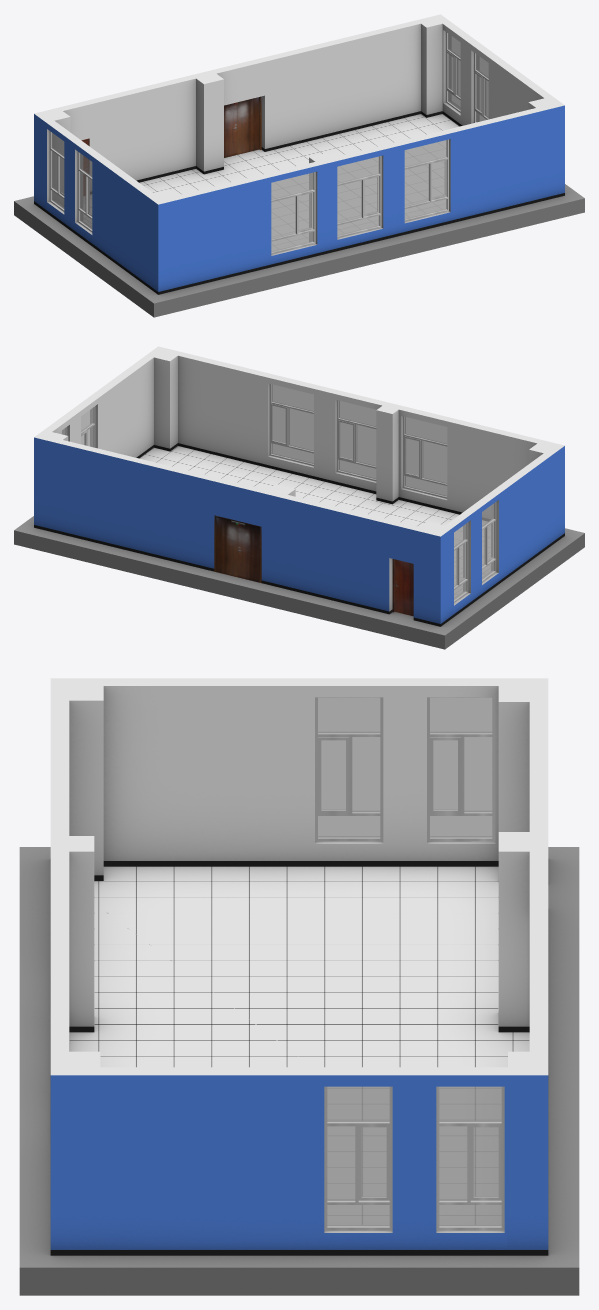
File: room_jf_xl_bazx_2f.glb
The picture shows the model from 3 angles, top to bottom: view 1: azimuth 30°, elevation 25°; view 2: azimuth 150°, elevation 25°; view 3: azimuth 270°, elevation 25°; orthographic projection. The views are drawn at different scales.
Parts seen in each view (by area): view 1: qiang, di, boli, ding, chuang1703, men175; view 2: qiang, di, boli, ding, chuang1703, men175, men90; view 3: di, qiang, boli, ding, chuang1703.
Part boxes in pixels (bbox=[...]): qiang: bbox=[34, 23, 564, 294]; di: bbox=[14, 114, 584, 317]; boli: bbox=[52, 33, 488, 251]; ding: bbox=[34, 14, 564, 204]; chuang1703: bbox=[49, 32, 488, 254]; men175: bbox=[224, 96, 261, 157]; qiang: bbox=[34, 355, 564, 626]; di: bbox=[14, 446, 584, 649]; boli: bbox=[58, 384, 493, 599]; ding: bbox=[34, 346, 564, 536]; chuang1703: bbox=[64, 384, 496, 602]; men175: bbox=[214, 515, 261, 582]; men90: bbox=[392, 559, 413, 616]; di: bbox=[19, 847, 579, 1295]; qiang: bbox=[50, 686, 548, 1255]; boli: bbox=[318, 697, 501, 1226]; ding: bbox=[50, 678, 548, 1075]; chuang1703: bbox=[315, 697, 504, 1230].
Size of what is drawn, in the model's own units: 16 by 3.7 by 9.
Materials: 6 (5 with a texture image).
